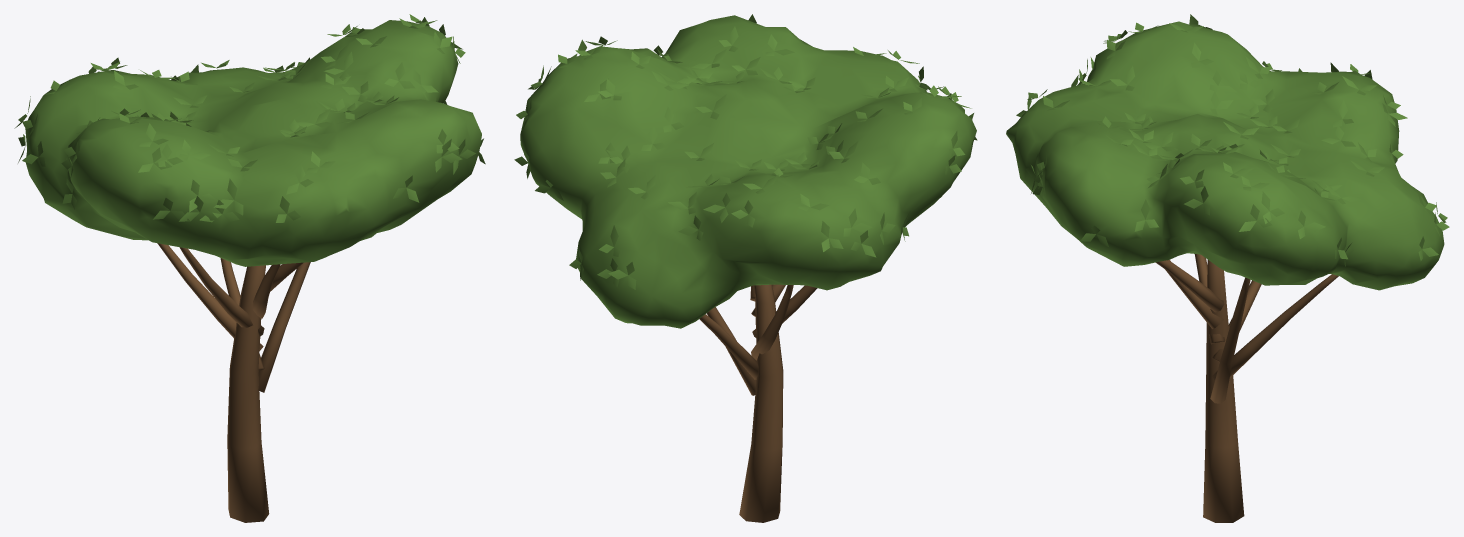
File: tropical-a.glb
The picture shows the model from 3 angles, left to right: view 1: azimuth 30°, elevation 25°; view 2: azimuth 150°, elevation 25°; view 3: azimuth 270°, elevation 25°; orthographic projection. The views are drawn at different scales.
Parts seen in each view (by area): view 1: tropical-a; view 2: tropical-a; view 3: tropical-a.
Part boxes in pixels (box(x1,y1,x2,y2)): tropical-a: box(14, 14, 485, 522); tropical-a: box(514, 14, 977, 522); tropical-a: box(1006, 14, 1449, 522).
Size of the model in its own units: 1.93 by 1.98 by 1.86.
